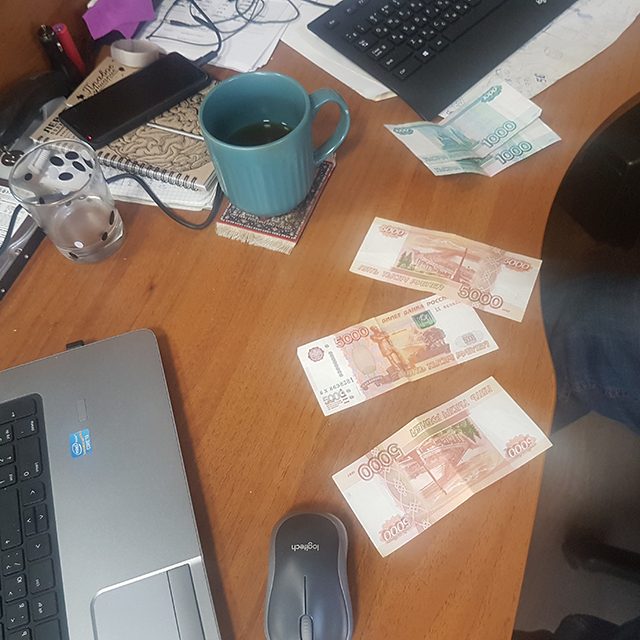banknotes: (334, 375, 552, 559), (297, 296, 499, 417), (347, 218, 544, 319), (382, 77, 564, 180)
